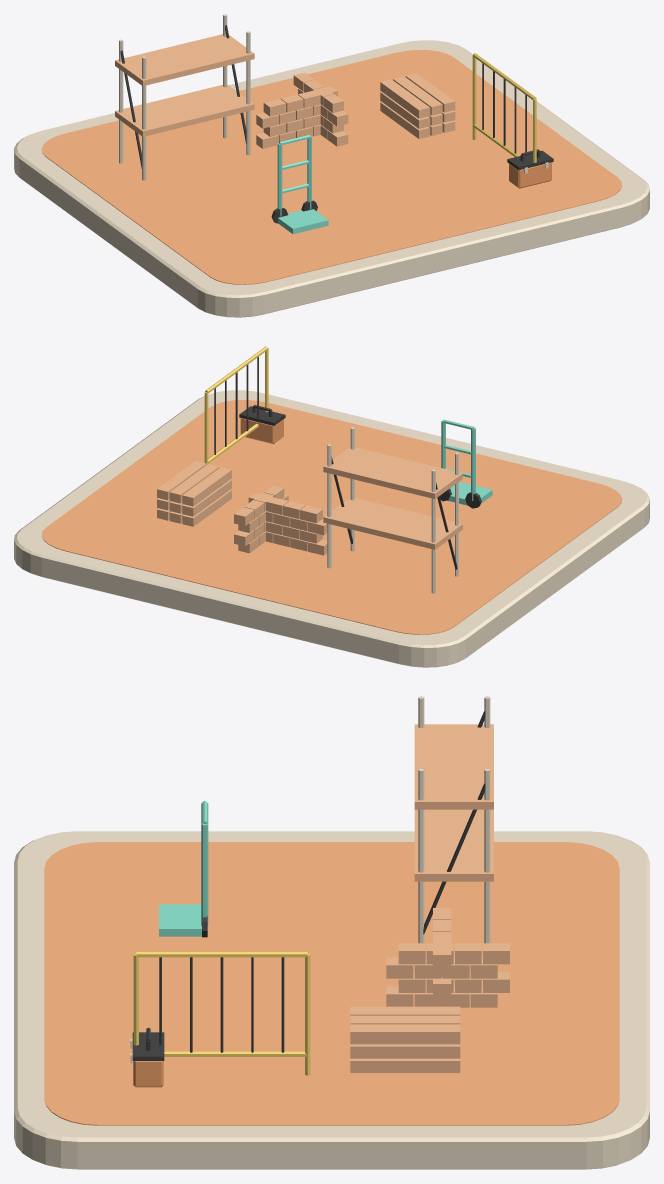
3 renders of one model, top to bottom at view 1: azimuth 30°, elevation 25°; view 2: azimuth 150°, elevation 25°; view 3: azimuth 270°, elevation 25°, orthographic. The views are drawn at different scales.
Visible parts, largest first — view 1: COM-02 Floor Surface, COM-01 Rounded Base Direct, Platform.001, Platform, Timber.006, Loading plate, Box, Timber.008, Timber.007, Upright.002, Upright, Timber.003 (+3 smaller); view 2: COM-02 Floor Surface, COM-01 Rounded Base Direct, Platform.001, Platform, Timber.006, Box, Timber.007, Timber.008, Upright.001, Upright.003, Timber, Timber.003 (+2 smaller); view 3: COM-02 Floor Surface, COM-01 Rounded Base Direct, Platform.001, Platform, Timber.008, Timber.005, Timber.002, Loading plate, Timber.006, Timber.007, Upright.003, Upright.002 (+6 smaller).
Part boxes in pixels (left/top/right/bottom): COM-02 Floor Surface: left=41, top=50, right=622, bottom=284; COM-01 Rounded Base Direct: left=14, top=40, right=649, bottom=317; Platform.001: left=115, top=34, right=254, bottom=86; Platform: left=115, top=84, right=254, bottom=136; Timber.006: left=380, top=79, right=430, bottom=118; Loading plate: left=278, top=209, right=328, bottom=234; Box: left=509, top=162, right=551, bottom=188; Timber.008: left=405, top=73, right=455, bottom=112; Timber.007: left=393, top=76, right=442, bottom=115; Upright.002: left=246, top=31, right=250, bottom=155; Upright: left=142, top=56, right=146, bottom=180; Timber.003: left=380, top=92, right=430, bottom=128; COM-02 Floor Surface: left=41, top=400, right=622, bottom=634; COM-01 Rounded Base Direct: left=14, top=390, right=649, bottom=667; Platform.001: left=323, top=447, right=462, bottom=498; Platform: left=323, top=497, right=462, bottom=549; Timber.006: left=182, top=467, right=231, bottom=506; Box: left=240, top=418, right=283, bottom=444; Timber.007: left=169, top=464, right=219, bottom=503; Timber.008: left=157, top=461, right=206, bottom=500; Upright.001: left=431, top=469, right=435, bottom=593; Upright.003: left=327, top=444, right=331, bottom=568; Timber: left=182, top=489, right=231, bottom=526; Timber.003: left=182, top=479, right=231, bottom=516; COM-02 Floor Surface: left=44, top=842, right=619, bottom=1125; COM-01 Rounded Base Direct: left=14, top=831, right=649, bottom=1169; Platform.001: left=414, top=724, right=493, bottom=809; Platform: left=414, top=809, right=493, bottom=881; Timber.008: left=350, top=1024, right=460, bottom=1044; Timber.005: left=350, top=1044, right=460, bottom=1058; Timber.002: left=350, top=1058, right=460, bottom=1072; Loading plate: left=159, top=904, right=201, bottom=936; Timber.006: left=350, top=1006, right=460, bottom=1015; Timber.007: left=350, top=1015, right=460, bottom=1024; Upright.003: left=484, top=769, right=490, bottom=943; Upright.002: left=418, top=769, right=424, bottom=943.
Size of the model in its own units: 6 by 1.9 by 5.2.
Materials: 1 (1 with a texture image).
